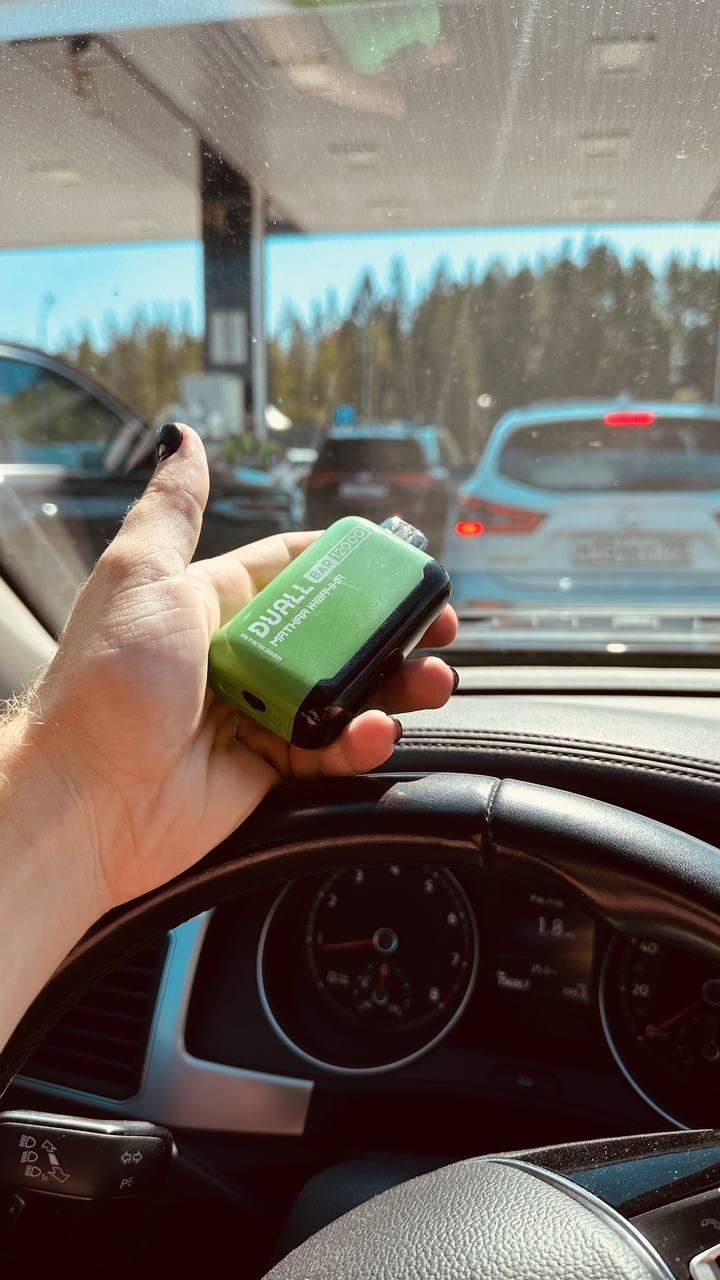Vape: (208, 515, 453, 750)
